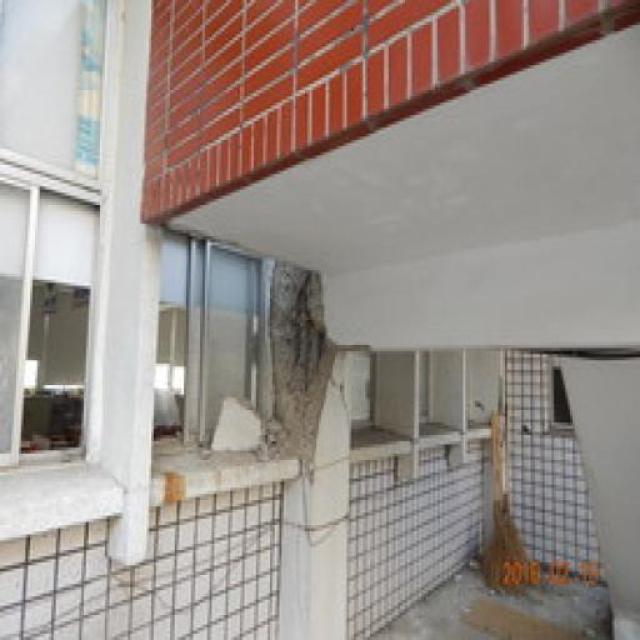D0w0: (270, 261, 334, 456)
